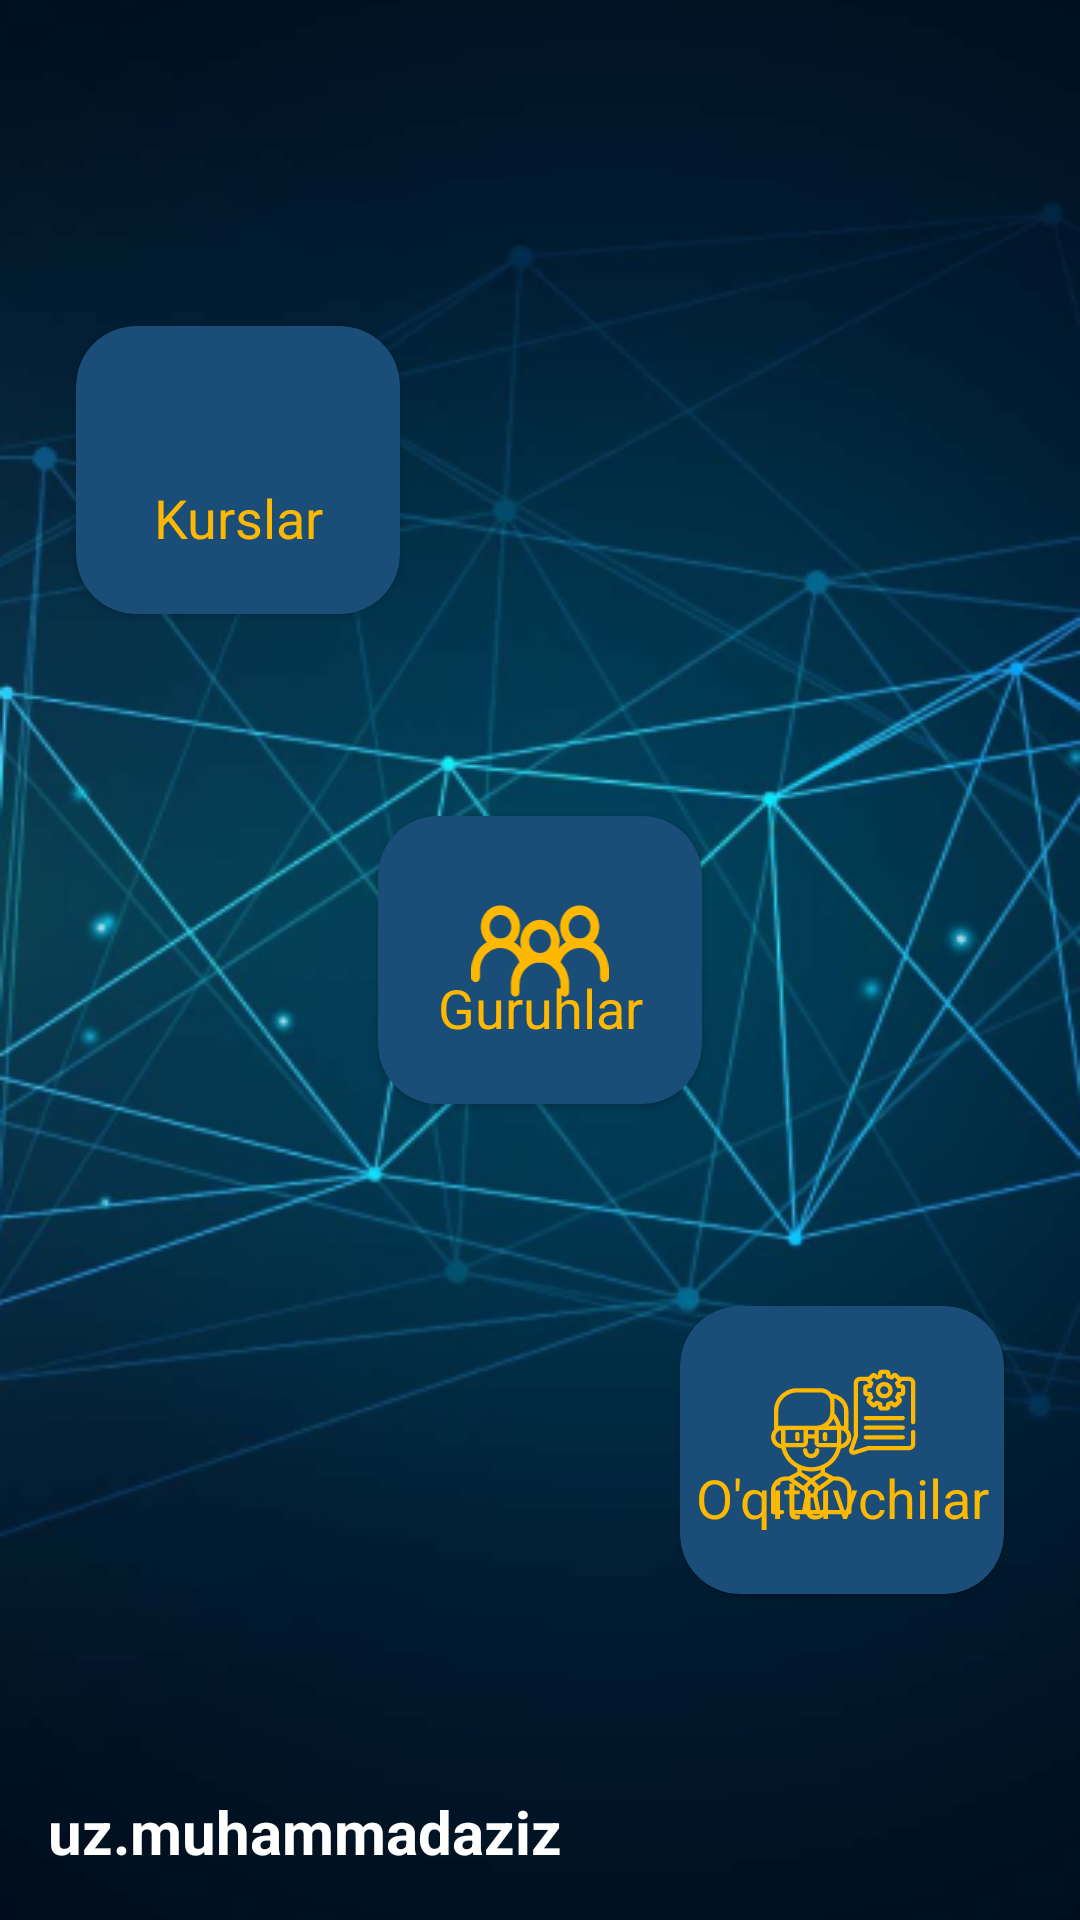

Named icons in this screenshot (1080px x 1920px) and their bounding boxes, (x1, y1, x2, y2):
teacher: (771, 1369, 916, 1516)
